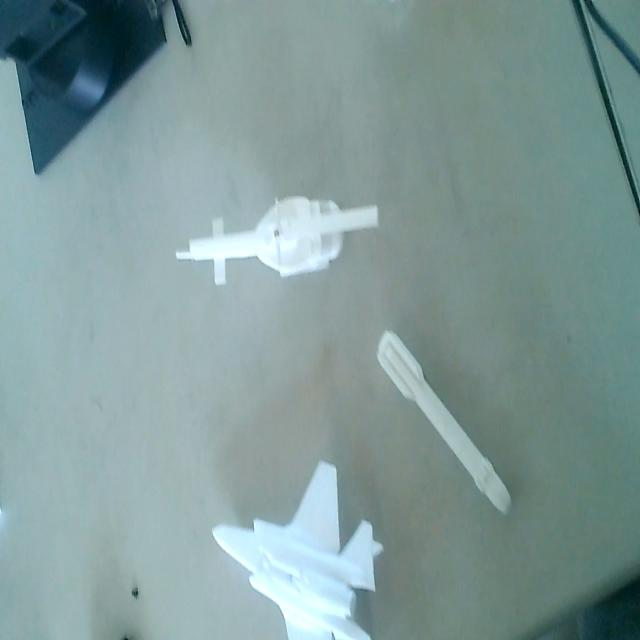Helicopter: (170, 186, 380, 292)
Jet: (208, 459, 385, 640)
Rocket: (374, 323, 516, 520)
